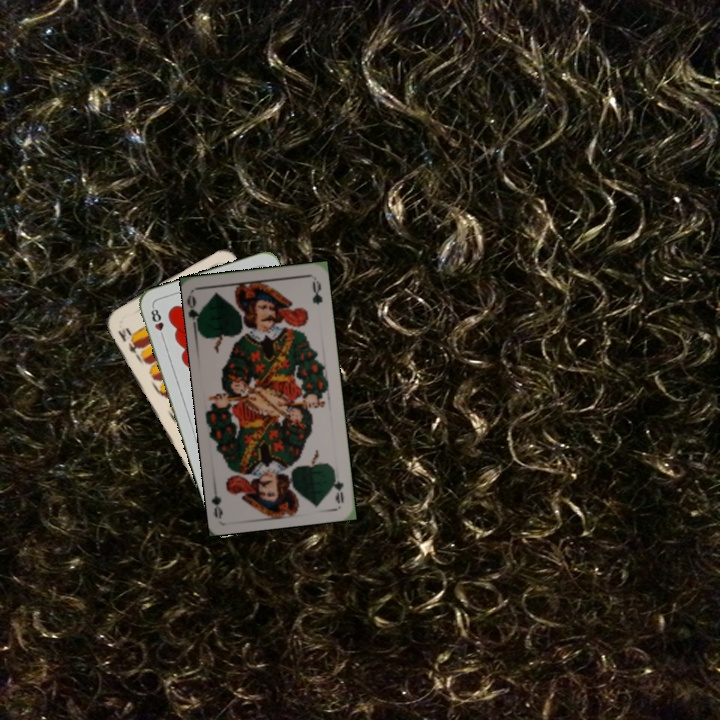E10: (114, 323, 145, 359)
GO: (185, 291, 206, 332), (328, 465, 346, 505)
H8: (147, 303, 167, 343)
